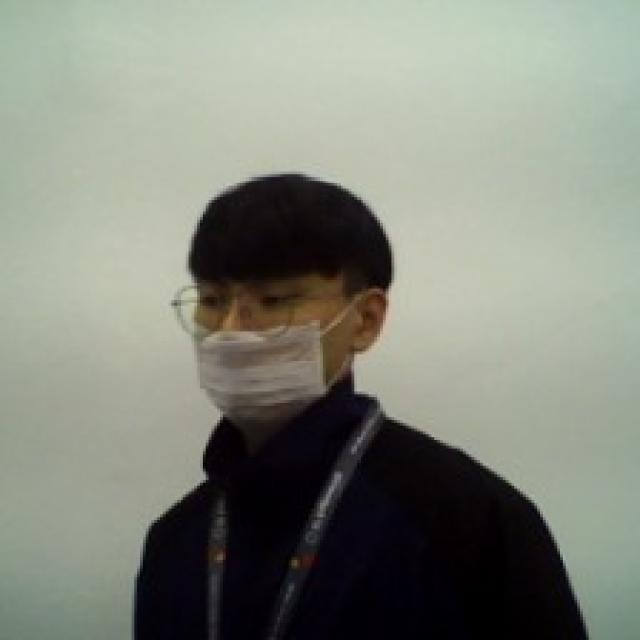mask: (180, 286, 375, 429)
no_gloves: (183, 168, 400, 312)
